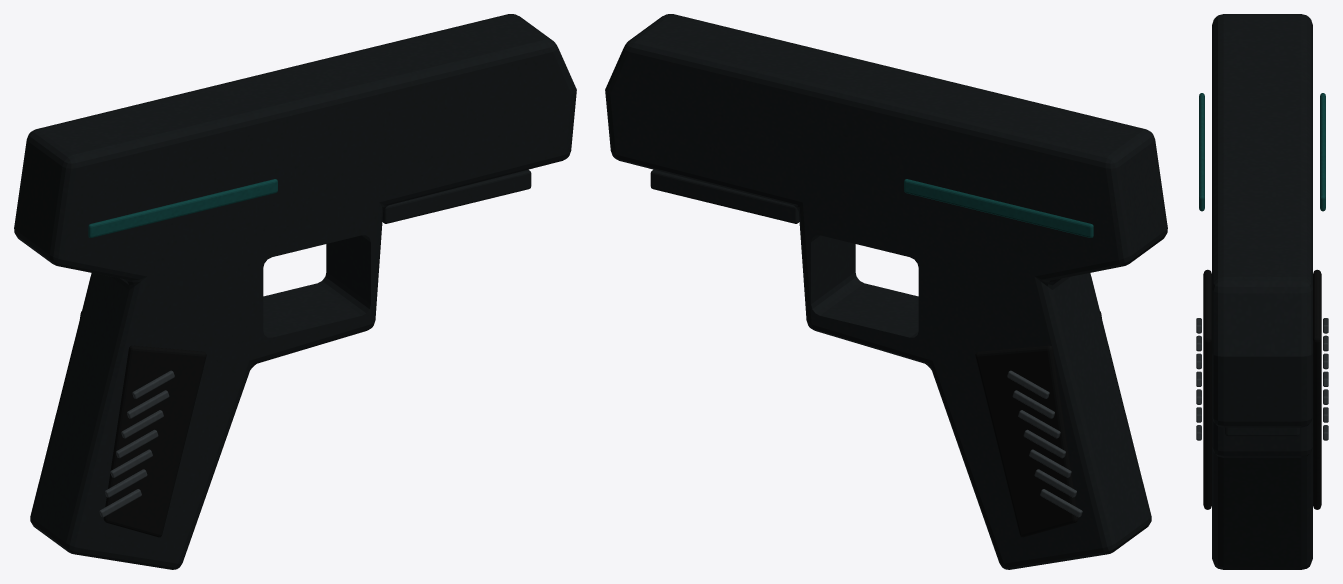
File: mote03.core.glb
The picture shows the model from 3 angles, left to right: view 1: azimuth 30°, elevation 25°; view 2: azimuth 150°, elevation 25°; view 3: azimuth 270°, elevation 25°; orthographic projection. The views are drawn at different scales.
Parts seen in each view (by area): view 1: VIS_mote03_core; view 2: VIS_mote03_core; view 3: VIS_mote03_core.
Boxes of the visible parts, bbox=[...] form: VIS_mote03_core: bbox=[14, 14, 576, 569]; VIS_mote03_core: bbox=[605, 14, 1167, 569]; VIS_mote03_core: bbox=[1196, 14, 1328, 569].
Bounding box in the file's own units: 0.2394 × 0.1908 × 0.046.
Materials: 4 (4 with a texture image).
